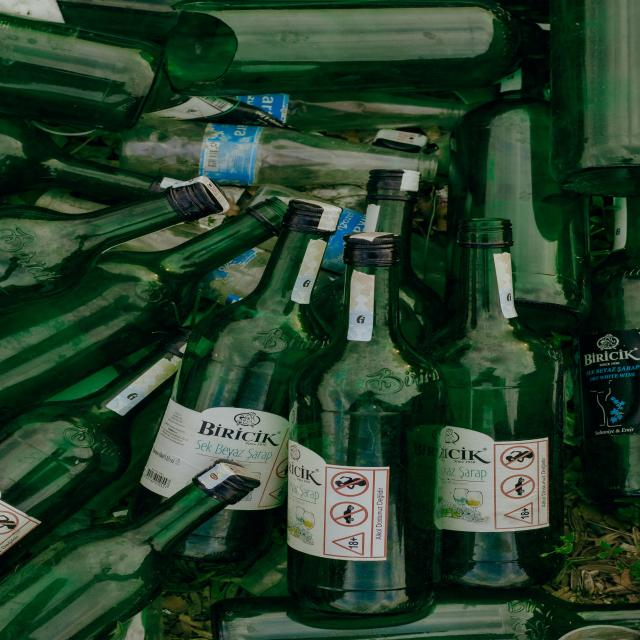glass: (245, 214, 440, 616)
